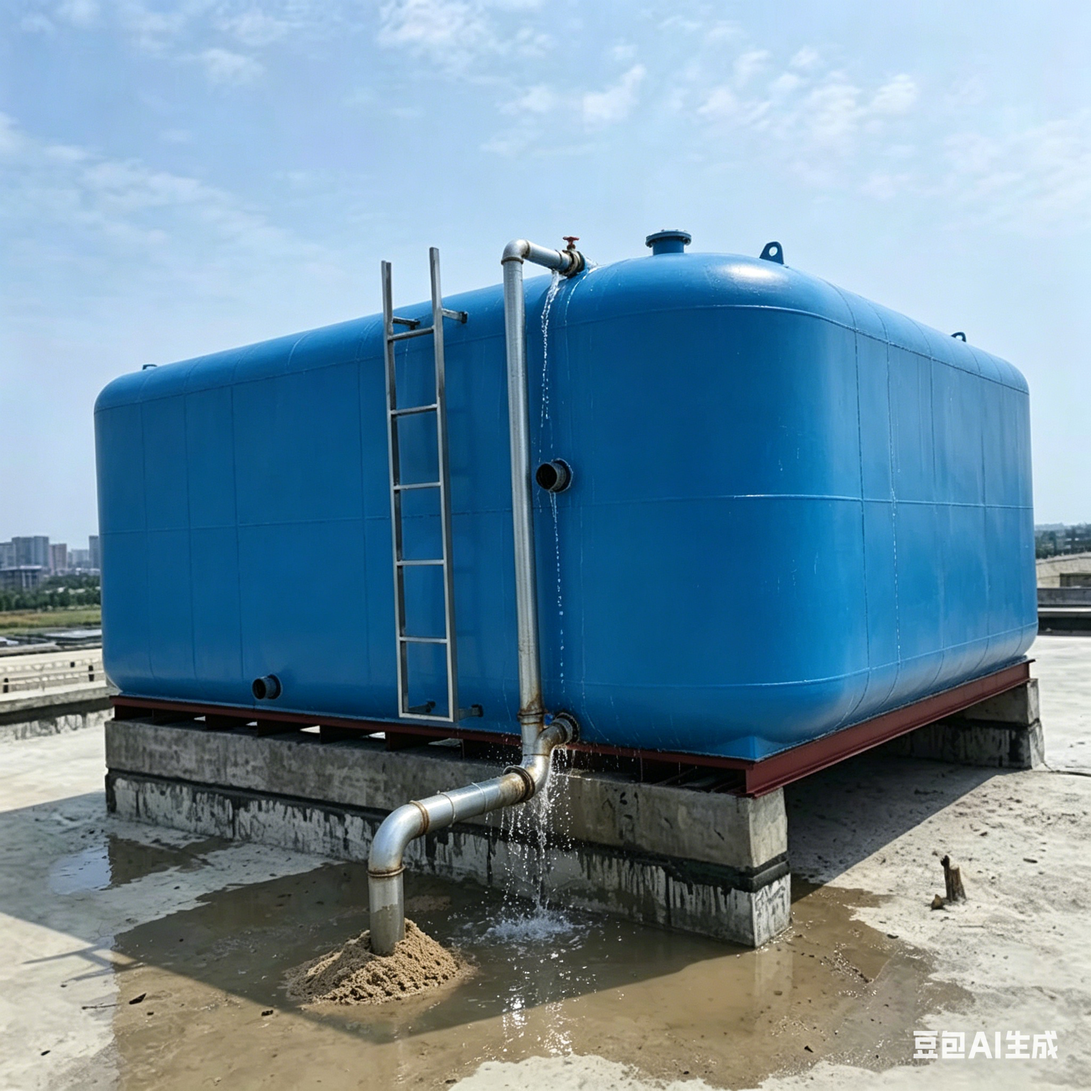Leakage: (628, 913, 955, 1091), (110, 941, 483, 1091), (521, 241, 604, 708), (509, 712, 616, 1049), (237, 864, 503, 939), (32, 812, 191, 898)
